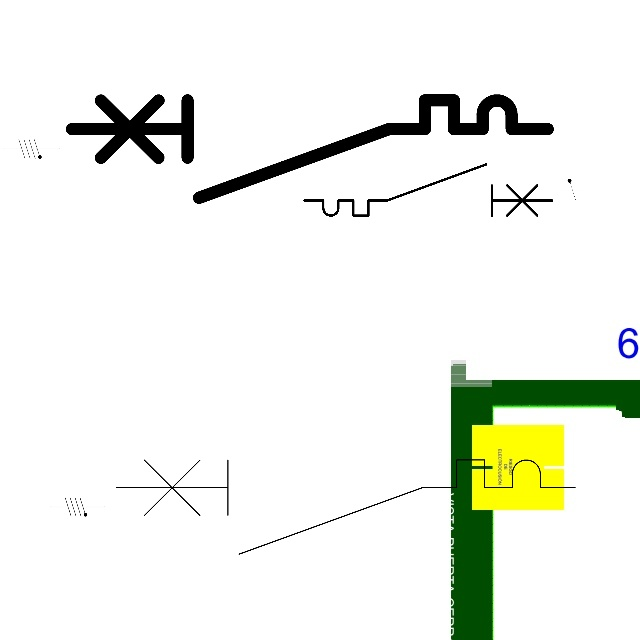interruptor_termomagnetico: (59, 88, 559, 210), (104, 448, 586, 566), (298, 158, 559, 222)
